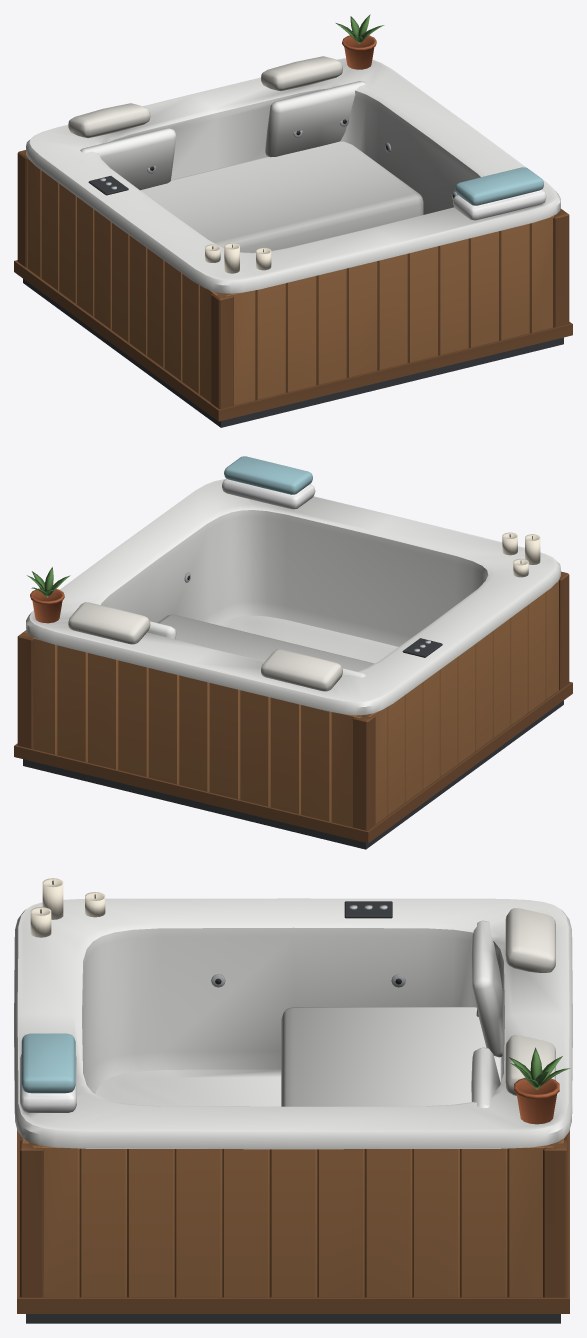
Rendered from whirlpoolTub.glb.
The picture shows the model from 3 angles, top to bottom: view 1: azimuth 30°, elevation 25°; view 2: azimuth 150°, elevation 25°; view 3: azimuth 270°, elevation 25°; orthographic projection. The views are drawn at different scales.
Parts seen in each view (by area): view 1: body; view 2: body; view 3: body.
Boxes of the visible parts, <box> form: body: <box>14,14,572,427</box>; body: <box>14,456,572,849</box>; body: <box>14,878,572,1323</box>.
Bounding box in the file's own units: 1.86 × 0.9329 × 1.86.
